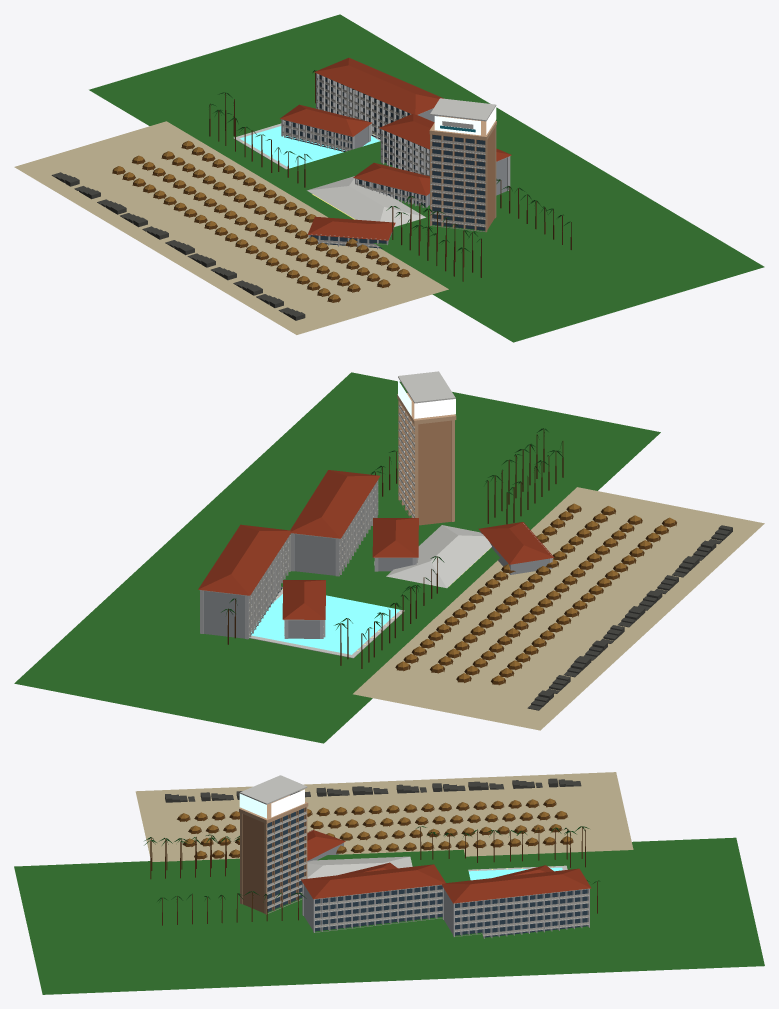
File: divephoenix.glb
The picture shows the model from 3 angles, top to bottom: view 1: azimuth 30°, elevation 25°; view 2: azimuth 150°, elevation 25°; view 3: azimuth 270°, elevation 25°; orthographic projection. The views are drawn at different scales.
Visible parts, largest first — view 1: divephoenix_lod0; view 2: divephoenix_lod0; view 3: divephoenix_lod0.
Part boxes in pixels (box(x1,y1,x2,y2)): divephoenix_lod0: box(14, 14, 764, 342); divephoenix_lod0: box(14, 371, 764, 743); divephoenix_lod0: box(14, 772, 764, 994).
Size of what is drawn, in the model's own units: 210 by 53.15 by 300.
